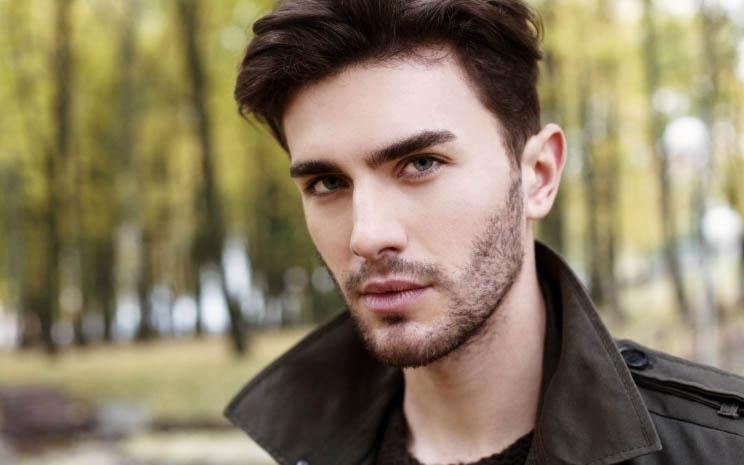Without Helmet: (223, 1, 566, 370)
